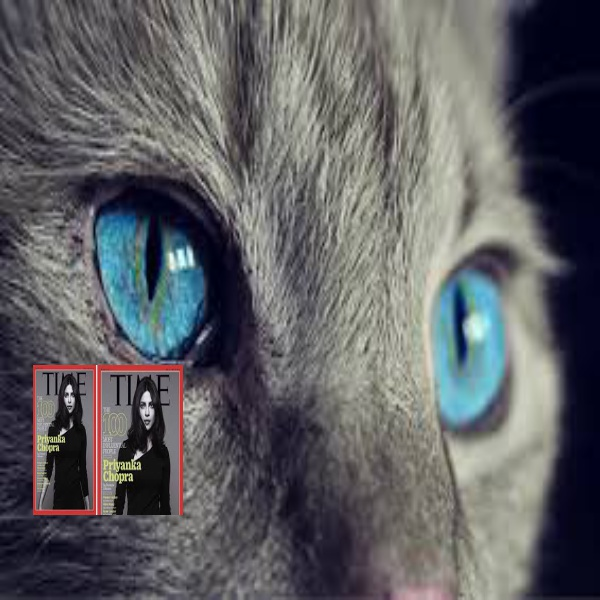time_cover: (103, 358, 184, 523), (24, 359, 89, 521)
